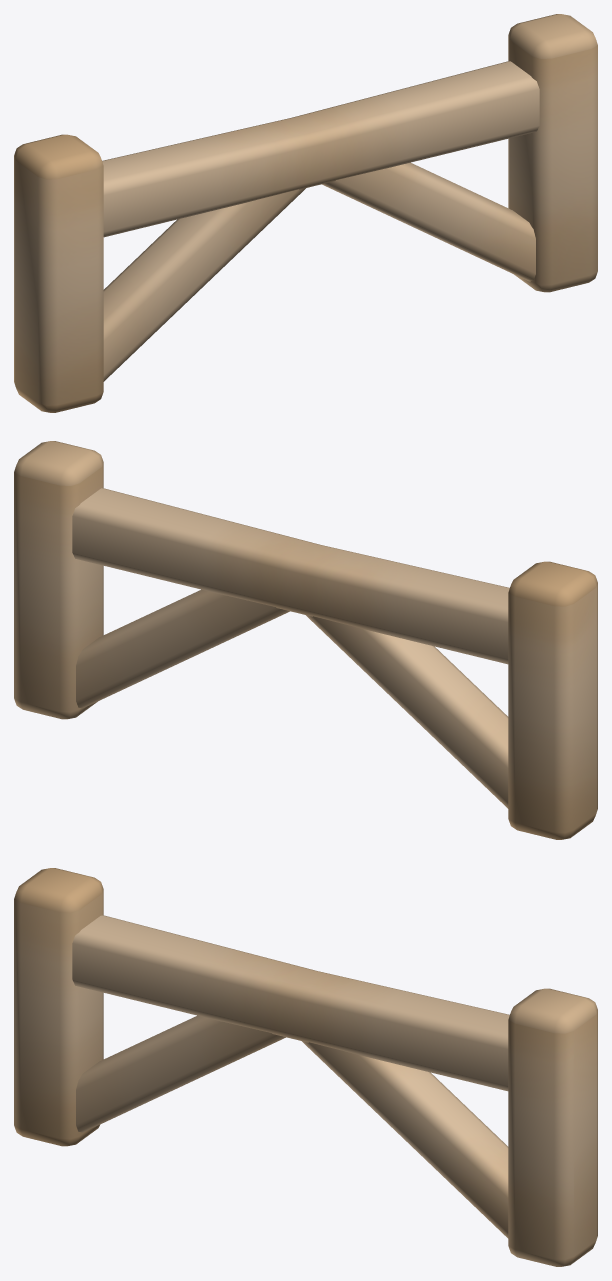
Rendered from Railing_02.fbx.
The picture shows the model from 3 angles, top to bottom: view 1: azimuth 30°, elevation 25°; view 2: azimuth 150°, elevation 25°; view 3: azimuth 330°, elevation 25°; orthographic projection.
Parts seen in each view (by area): view 1: 立方体.012; view 2: 立方体.012; view 3: 立方体.012.
Boxes of the visible parts, x1,y1,x2,y2 form: 立方体.012: (14,14,597,412); 立方体.012: (14,441,597,839); 立方体.012: (14,868,597,1266).
Size of the model in its own units: 102 by 43.97 by 11.71.
